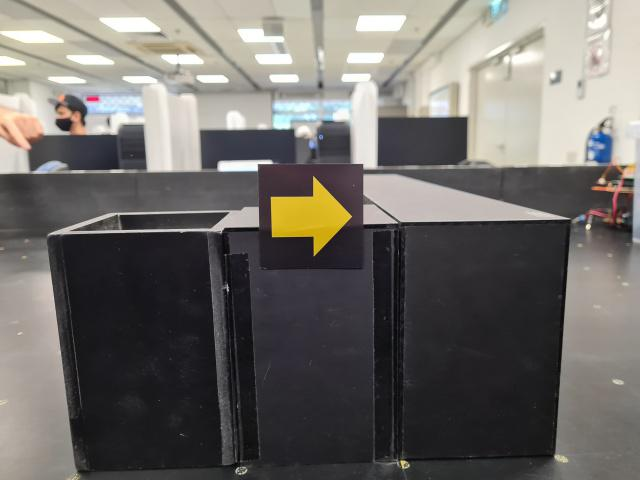right: (256, 162, 366, 271)
